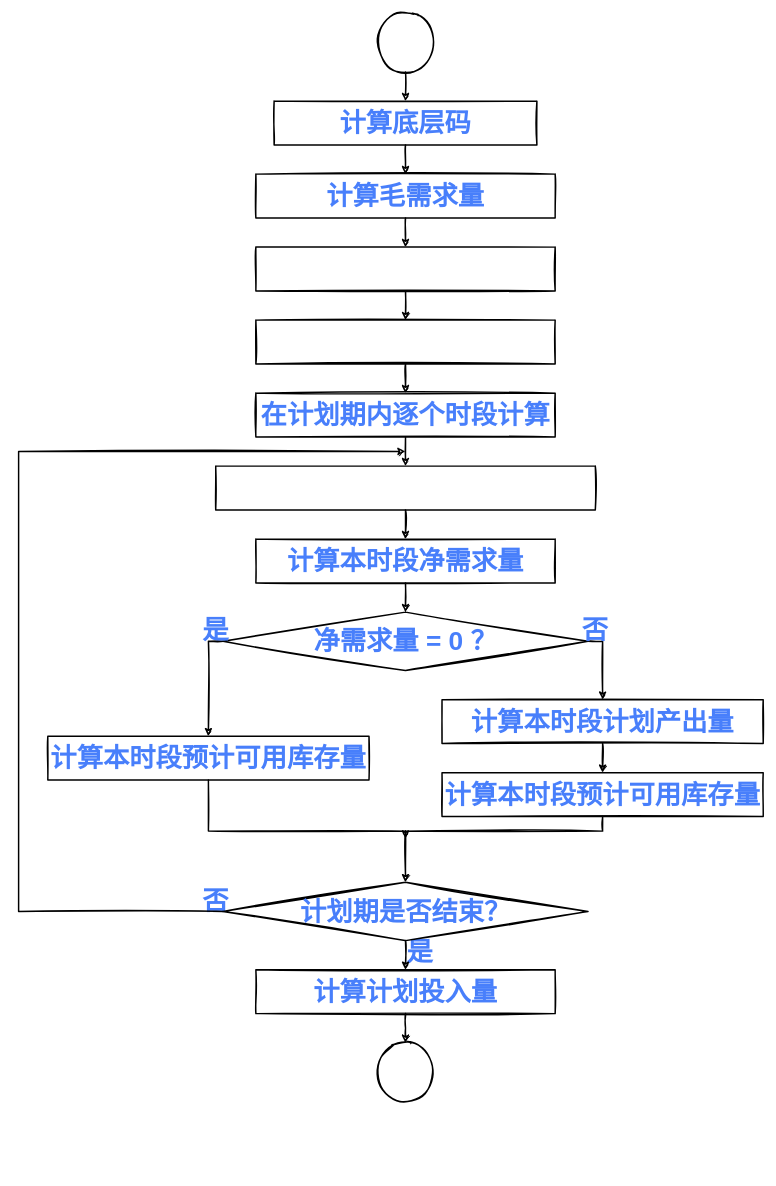
The diagram is 776 pixels wide and 1186 high, and some of its shapes have lost their labels. Here are the shapes that lost their labels. From the top down, the centre of each, then its label:
[405,42]: 开始
[405,268]: 计算计划接受量
[405,341]: 计算当期预计可用库存量
[405,487]: 计算本时段预计可用库存量初值
[405,1072]: 结束
